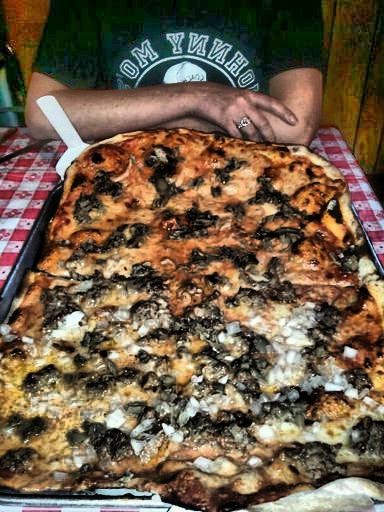pizza: (8, 126, 355, 491)
